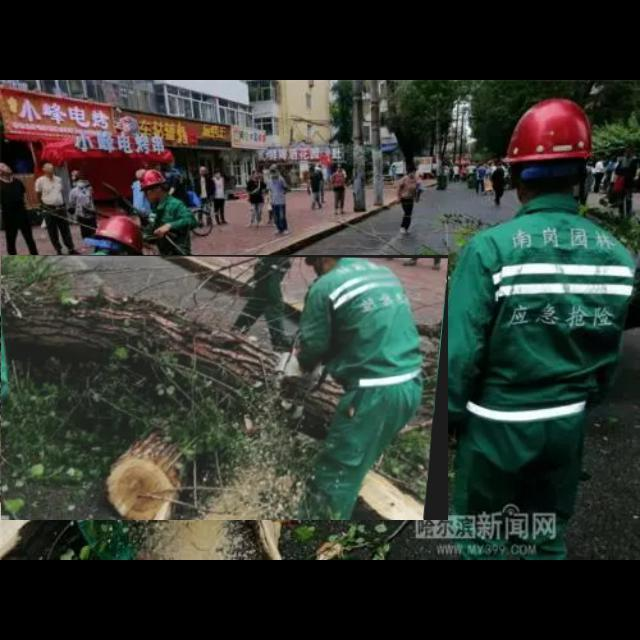fallen_tree: (1, 255, 449, 521)
